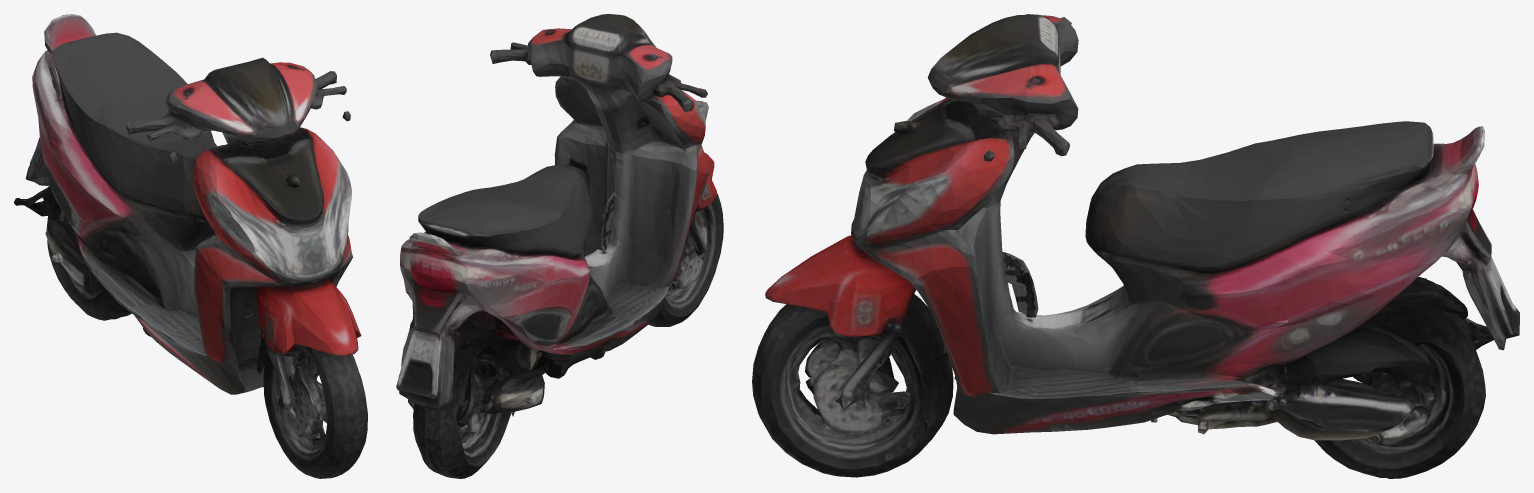
The picture shows the model from 3 angles, left to right: view 1: azimuth 30°, elevation 25°; view 2: azimuth 150°, elevation 25°; view 3: azimuth 270°, elevation 25°; orthographic projection. The views are drawn at different scales.
Visible parts, largest first — view 1: world; view 2: world; view 3: world.
Boxes of the visible parts, x1,y1,x2,y2 form: world: [14, 14, 367, 478]; world: [396, 14, 723, 478]; world: [752, 14, 1519, 478].
Size of the model in its own units: 0.3969 by 0.6502 by 1.
1 material, 1 textured.
